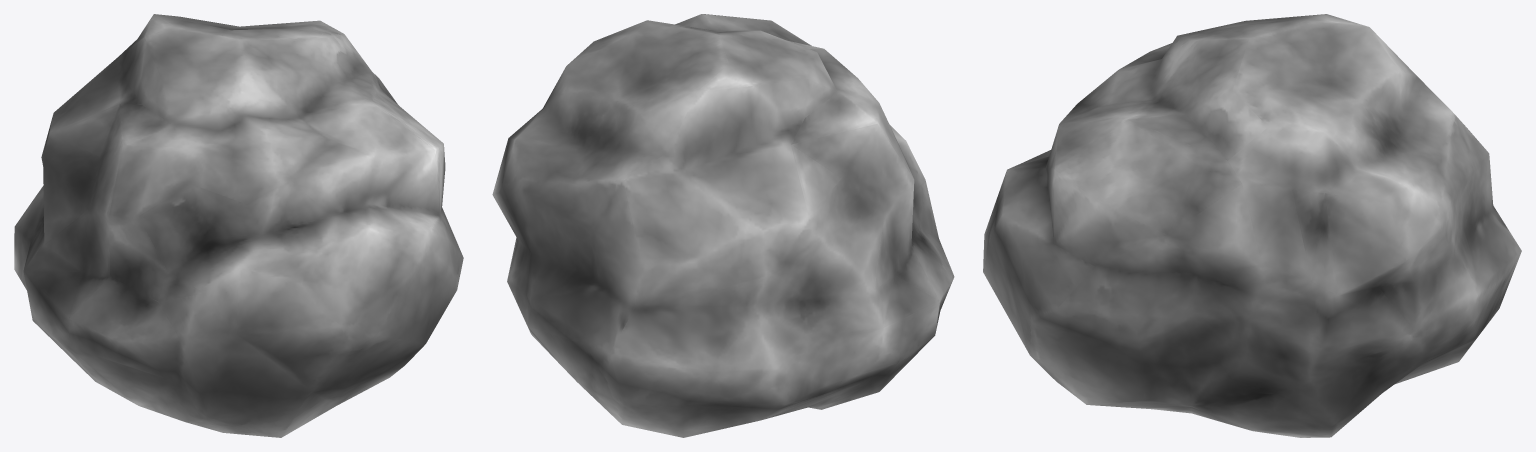
The model's file is rock2.glb.
The picture shows the model from 3 angles, left to right: view 1: azimuth 30°, elevation 25°; view 2: azimuth 150°, elevation 25°; view 3: azimuth 270°, elevation 25°; orthographic projection. The views are drawn at different scales.
Parts seen in each view (by area): view 1: Cube.002; view 2: Cube.002; view 3: Cube.002.
Part boxes in pixels (<box>): Cube.002: <box>14,14,463,437</box>; Cube.002: <box>492,14,954,437</box>; Cube.002: <box>983,14,1521,437</box>.
Size of the model in its own units: 0.9717 by 0.9063 by 1.2.
Materials: 1 (1 with a texture image).
